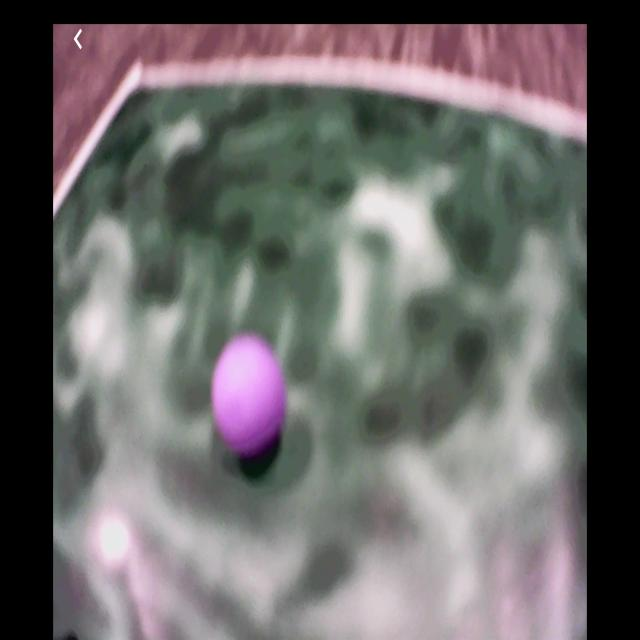ball: (211, 332, 288, 463)
